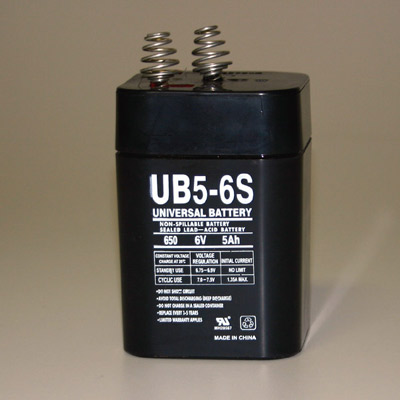6V: (108, 21, 315, 374)
